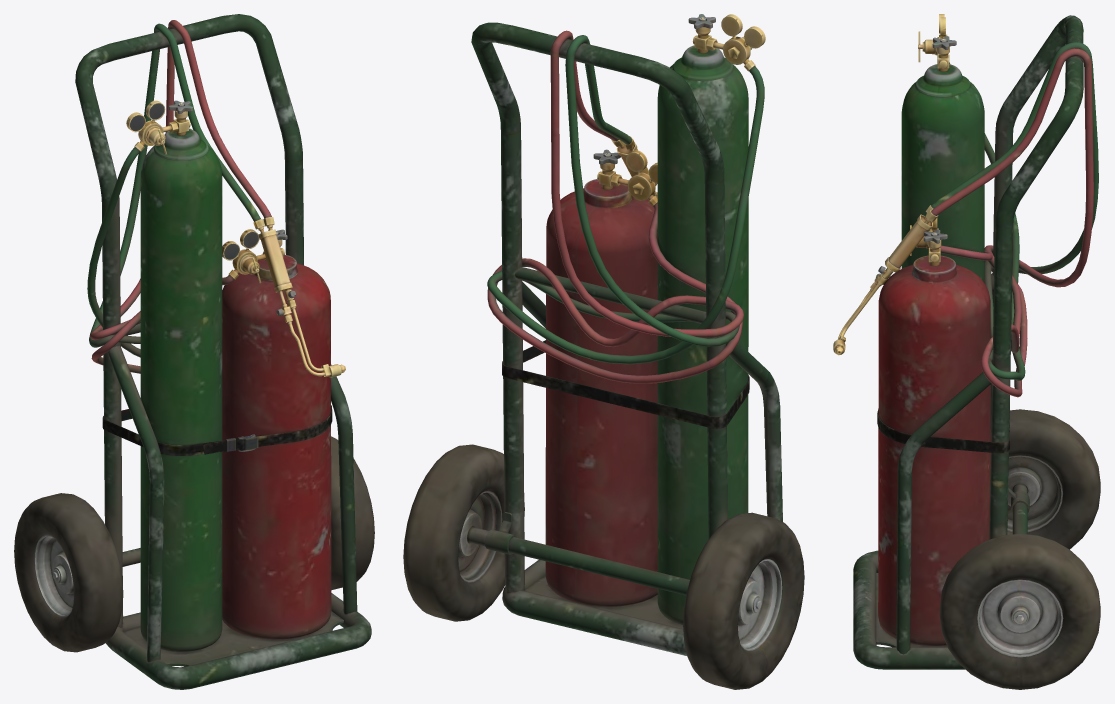
Rendered from portable_welding_cart.glb.
3 views of the same model, side by side, from view 1: azimuth 30°, elevation 25°; view 2: azimuth 150°, elevation 25°; view 3: azimuth 270°, elevation 25° (orthographic). The views are drawn at different scales.
Parts seen in each view (by area): view 1: portable_welding_cart; view 2: portable_welding_cart; view 3: portable_welding_cart.
Part boxes in pixels (bbox=[...]): portable_welding_cart: bbox=[14, 14, 374, 689]; portable_welding_cart: bbox=[403, 14, 804, 689]; portable_welding_cart: bbox=[833, 14, 1100, 689].
Bounding box in the file's own units: 0.8384 × 1.56 × 0.655.
2 materials, 2 textured.
